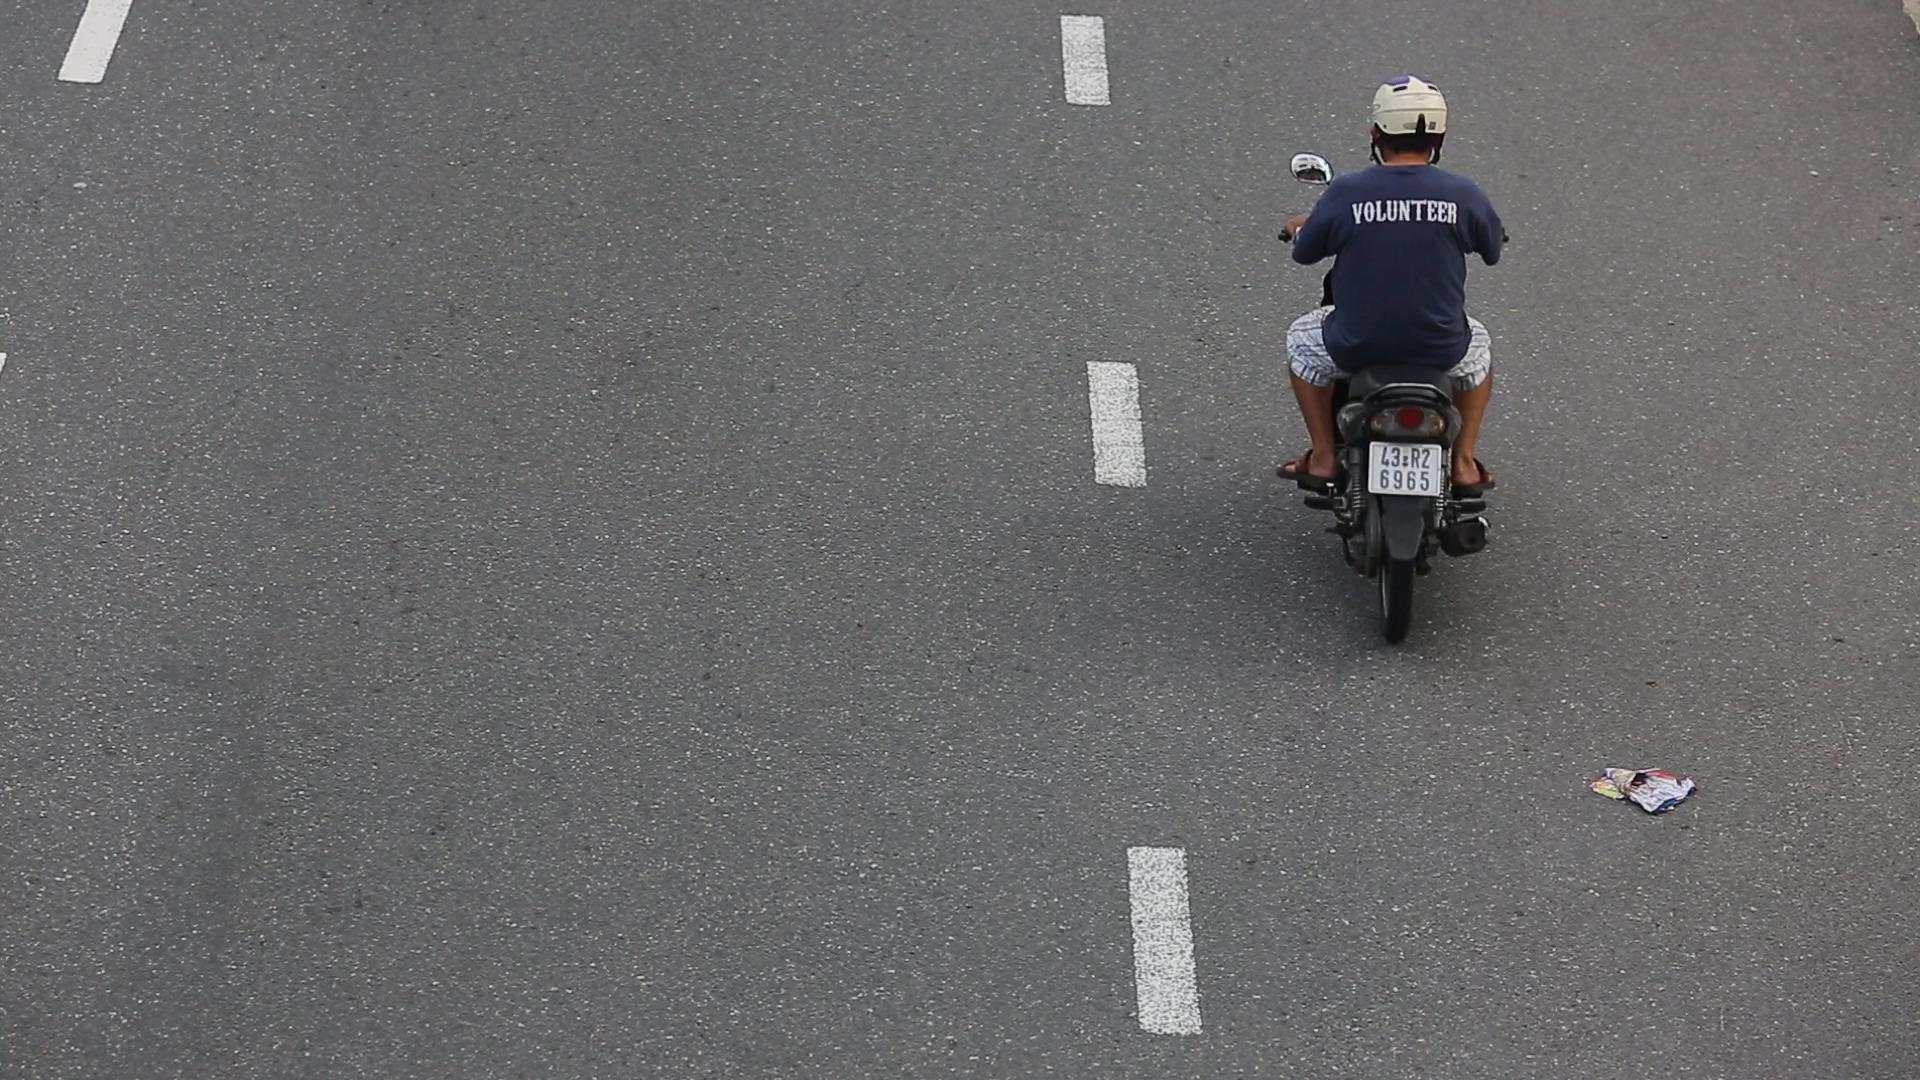motobike: (1276, 63, 1527, 658)
